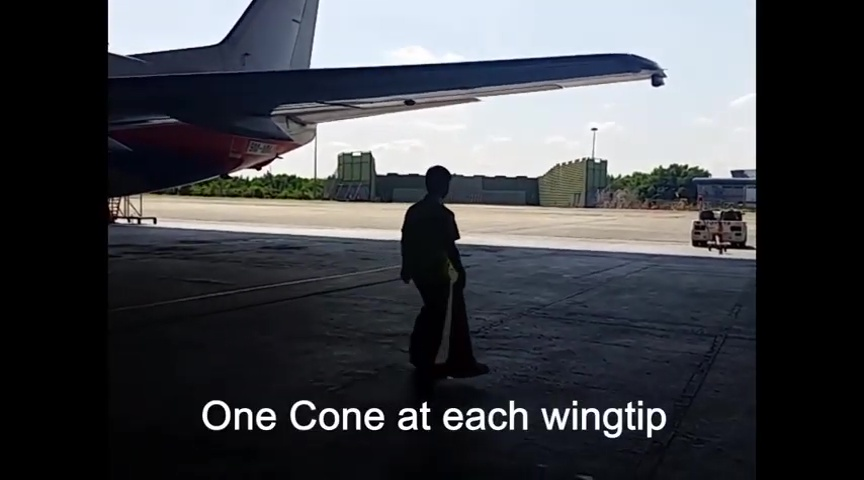safety_cone: (445, 279, 488, 380)
